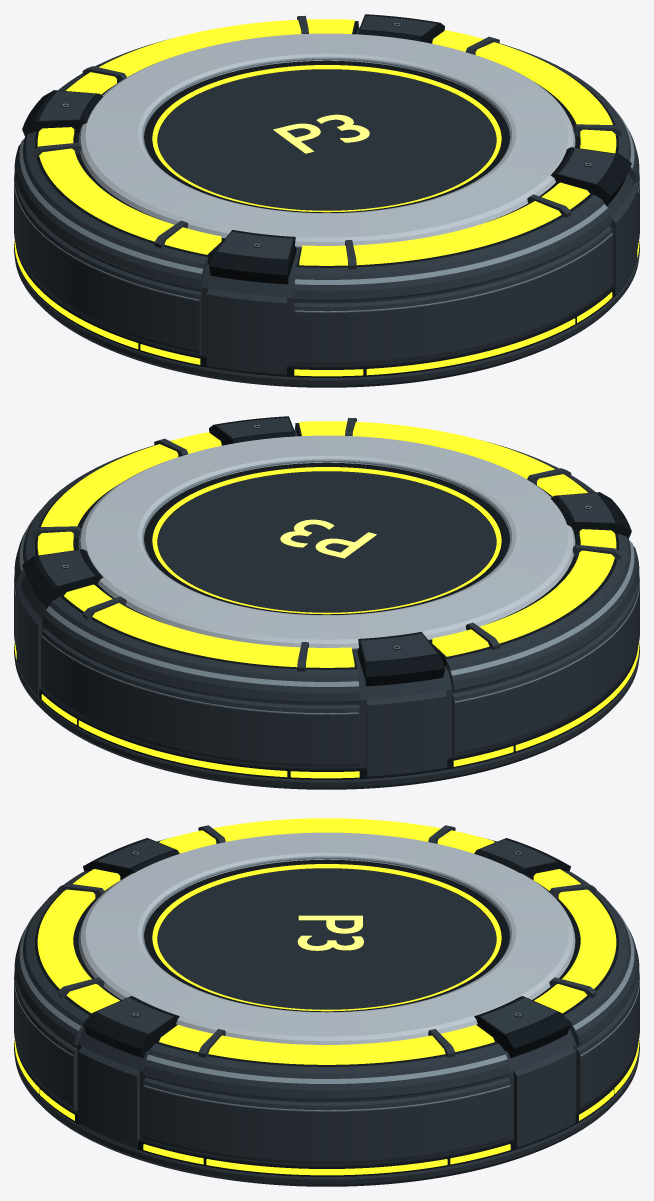
Rendered from Standard.fbx.
3 renders of one model, top to bottom at view 1: azimuth 30°, elevation 25°; view 2: azimuth 150°, elevation 25°; view 3: azimuth 270°, elevation 25°, orthographic.
Visible parts, largest first — view 1: SM_Puck_Standard_P3_HighDetail; view 2: SM_Puck_Standard_P3_HighDetail; view 3: SM_Puck_Standard_P3_HighDetail.
Part boxes in pixels (x1=…): SM_Puck_Standard_P3_HighDetail: x1=14, y1=14, x2=639, y2=387; SM_Puck_Standard_P3_HighDetail: x1=14, y1=416, x2=639, y2=789; SM_Puck_Standard_P3_HighDetail: x1=14, y1=818, x2=639, y2=1186.
Bounding box in the file's own units: 90 × 90 × 20.
